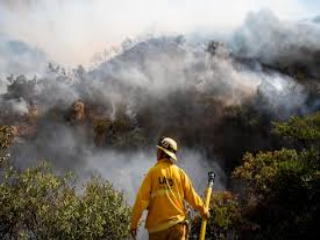smoke: (109, 34, 311, 116), (7, 72, 96, 121)
